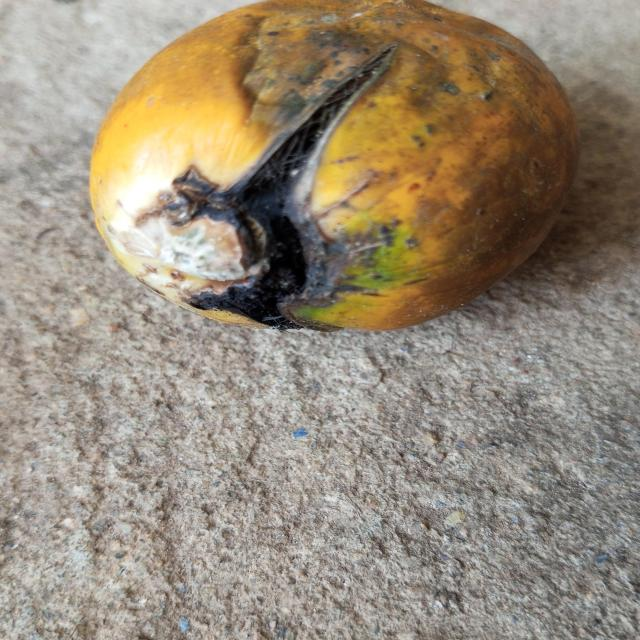damaged: (86, 0, 580, 335)
